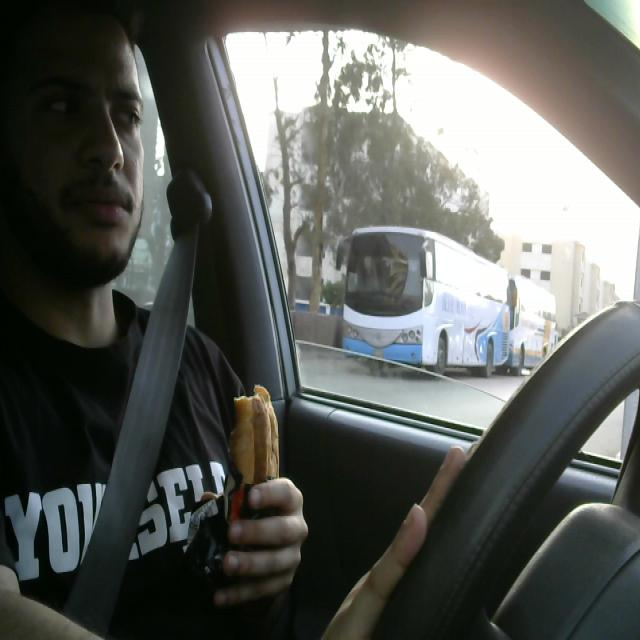eating: (226, 388, 279, 554)
